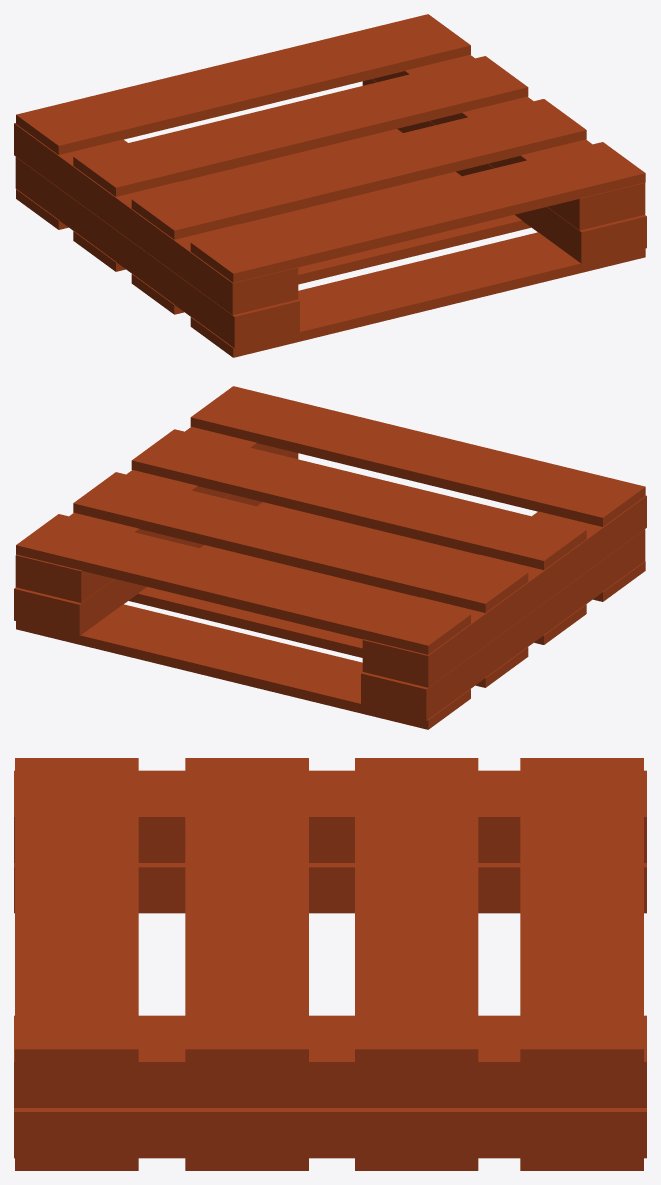
Rendered from CrateStand.fbx.
3 renders of one model, top to bottom at view 1: azimuth 30°, elevation 25°; view 2: azimuth 150°, elevation 25°; view 3: azimuth 270°, elevation 25°, orthographic. The views are drawn at different scales.
Parts seen in each view (by area): view 1: Cube.018; view 2: Cube.018; view 3: Cube.018.
Part boxes in pixels (left/top/right/bottom): Cube.018: left=14, top=14, right=646, bottom=357; Cube.018: left=14, top=386, right=646, bottom=729; Cube.018: left=14, top=758, right=646, bottom=1170.
Bounding box in the file's own units: 219 × 42.44 × 200.
